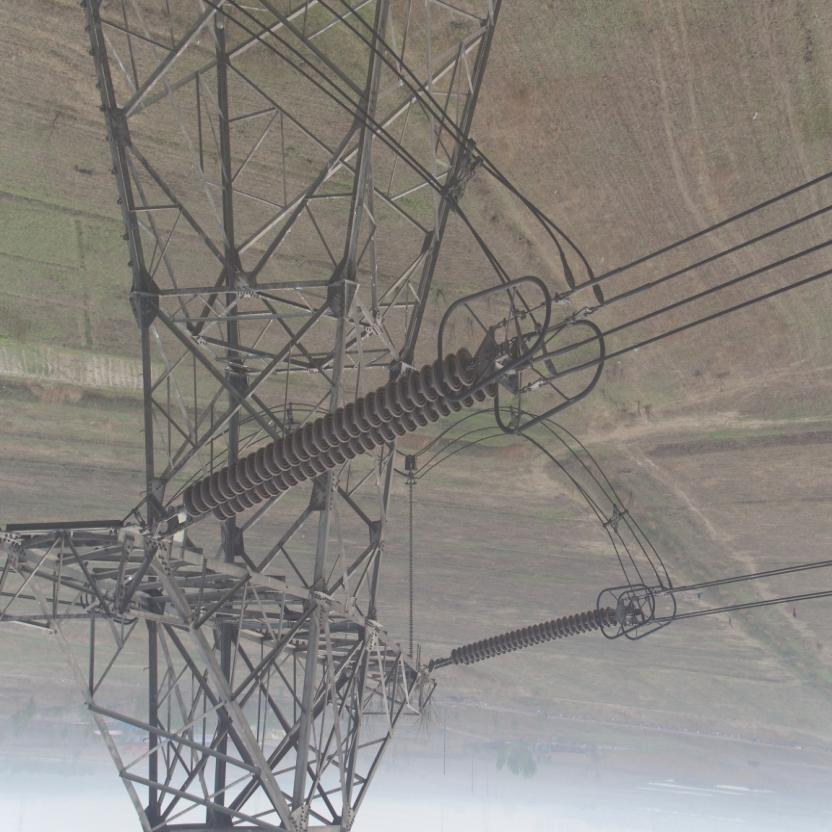insulator: (172, 346, 504, 534), (439, 604, 624, 672)
